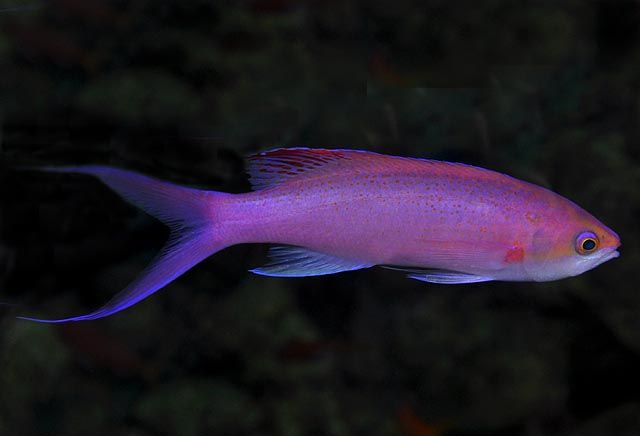fish: (15, 148, 621, 325)
